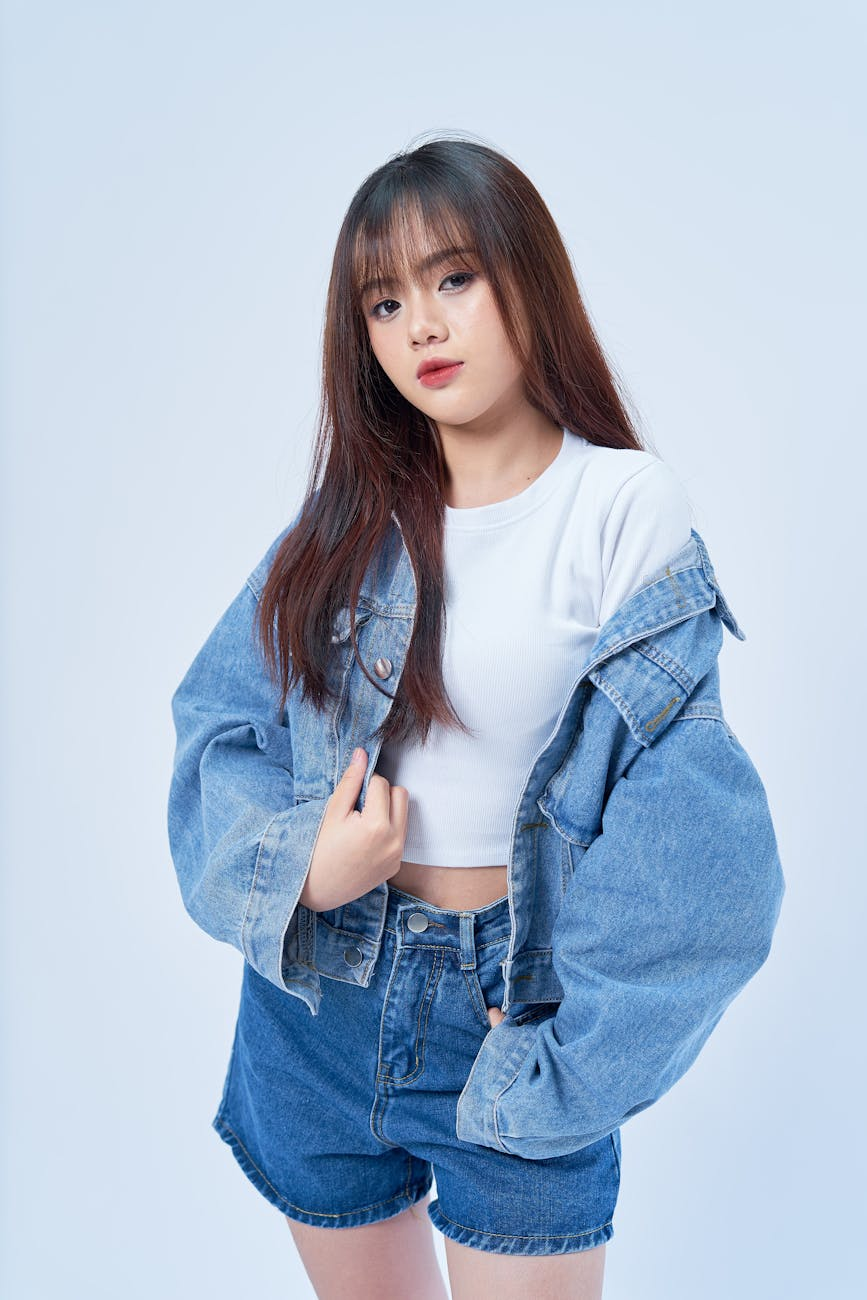crop_top: (332, 498, 675, 869)
shorts: (190, 881, 654, 1249)
